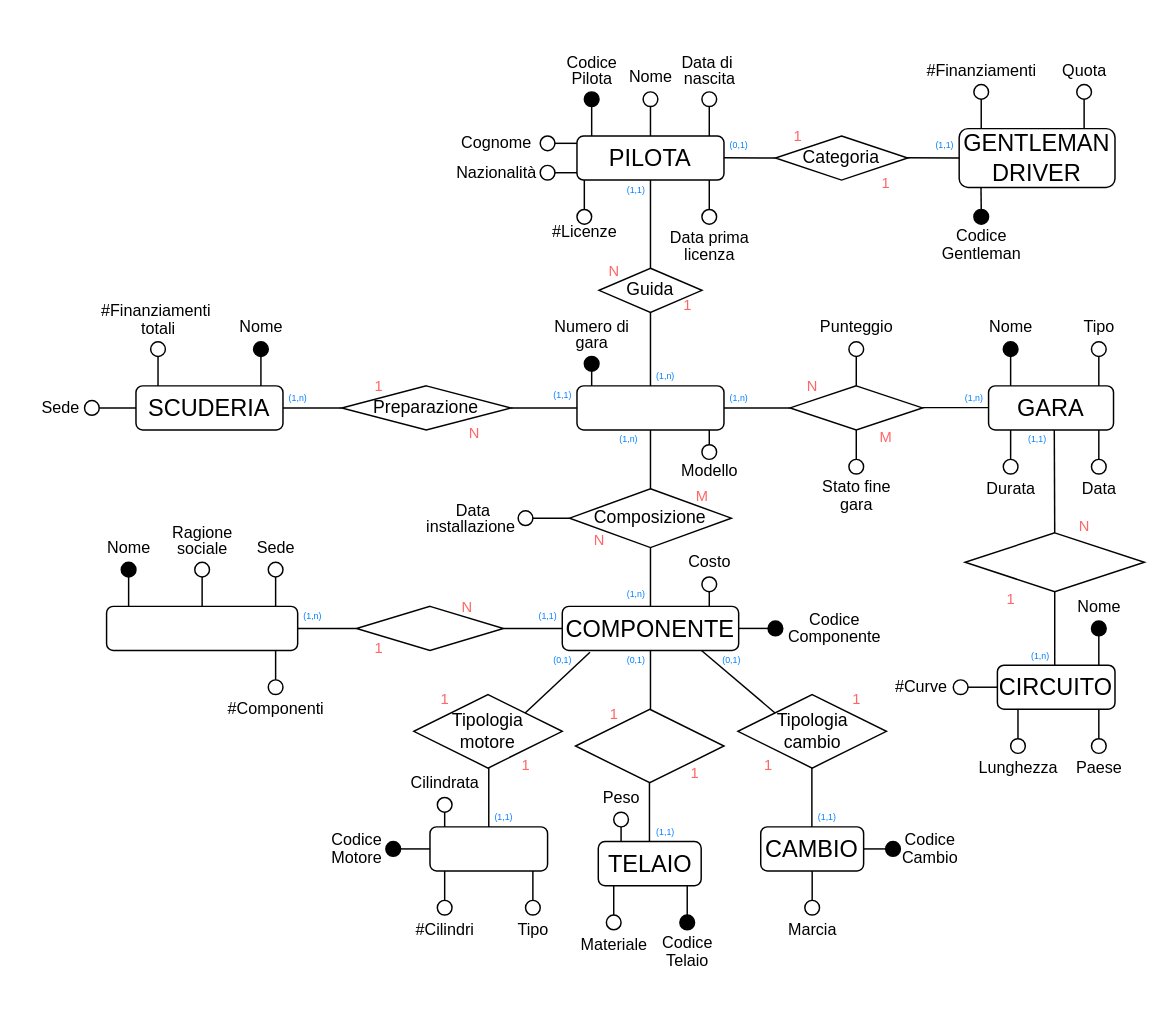
Image size: 1170x1013. Some labels were removed from this diagram. Each missing label, with the box of its shape:
Coinvolgimento: (964, 531, 1144, 592)
COSTRUTTORE: (105, 605, 298, 650)
Iscrizione: (789, 384, 922, 430)
MOTORE: (429, 825, 548, 871)
Produzione: (355, 605, 503, 650)
Tipologia telaio: (574, 708, 724, 783)
VETTURA: (576, 384, 724, 430)
